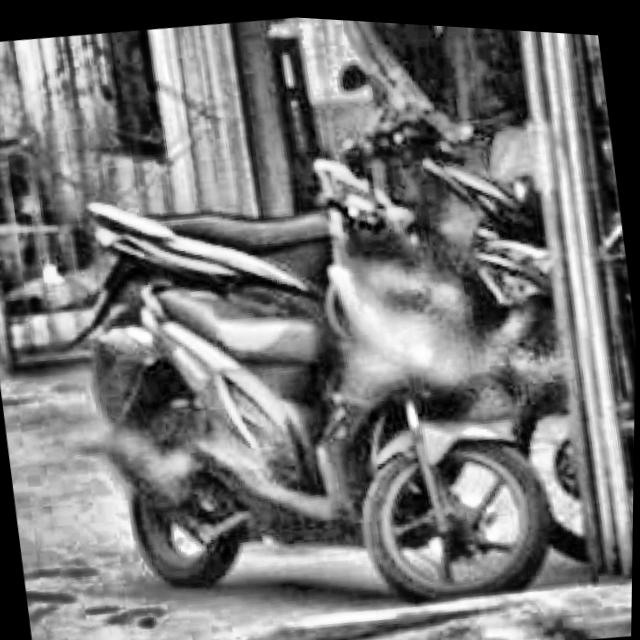motorcycle: (5, 107, 581, 640)
